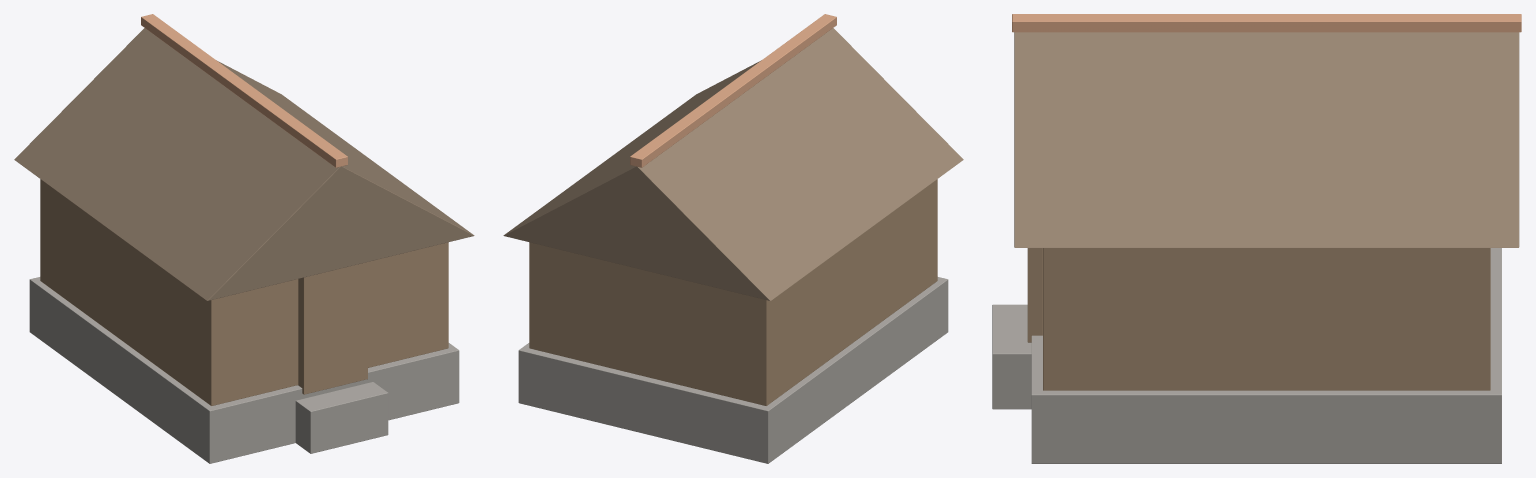
The model's file is House_Chalco_c.glb.
3 views of the same model, side by side, from view 1: azimuth 30°, elevation 25°; view 2: azimuth 150°, elevation 25°; view 3: azimuth 270°, elevation 25° (orthographic). The views are drawn at different scales.
Visible parts, largest first — view 1: House_Chalco_c; view 2: House_Chalco_c; view 3: House_Chalco_c.
Boxes of the visible parts, box(x1,y1,x2,y2) form: House_Chalco_c: box(14, 14, 474, 463); House_Chalco_c: box(503, 14, 963, 463); House_Chalco_c: box(992, 14, 1521, 463).
Size of what is drawn, in the model's own units: 3.95 by 3.97 by 5.19.
